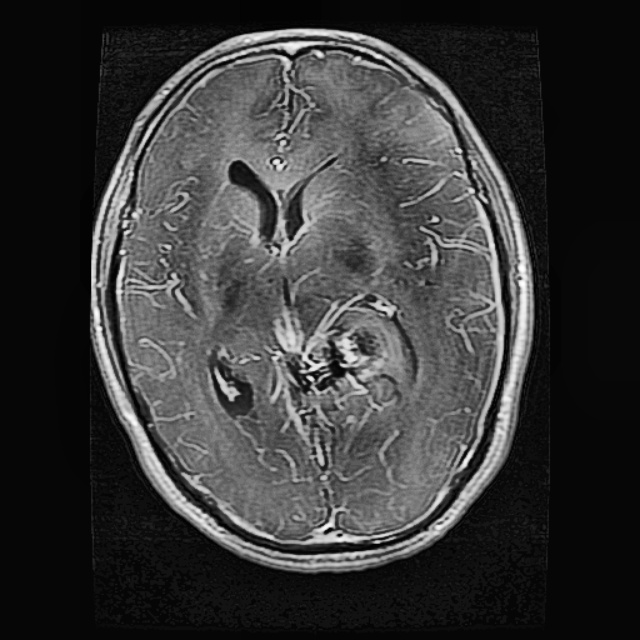Glioma: (270, 325, 388, 405)
